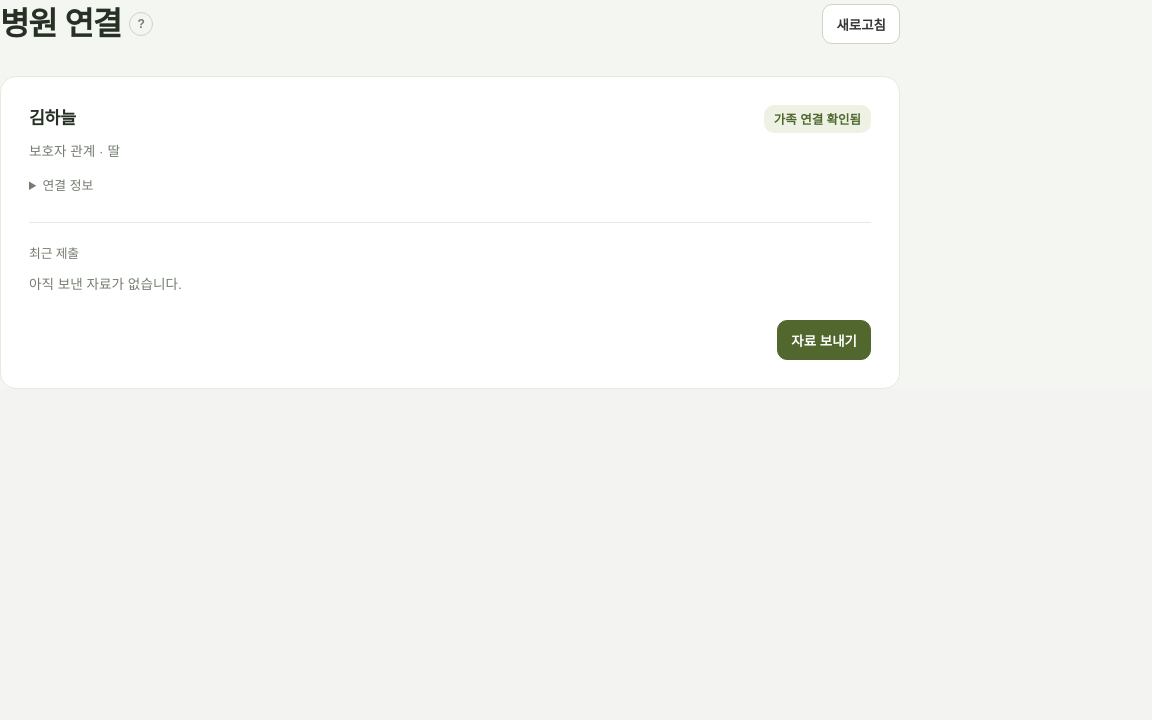
Test: 전송 시트를 닫았다가 다시 열면 동의를 다시 받는다
Click the button "자료 보내기": click(824, 340) [777,320,871,360]
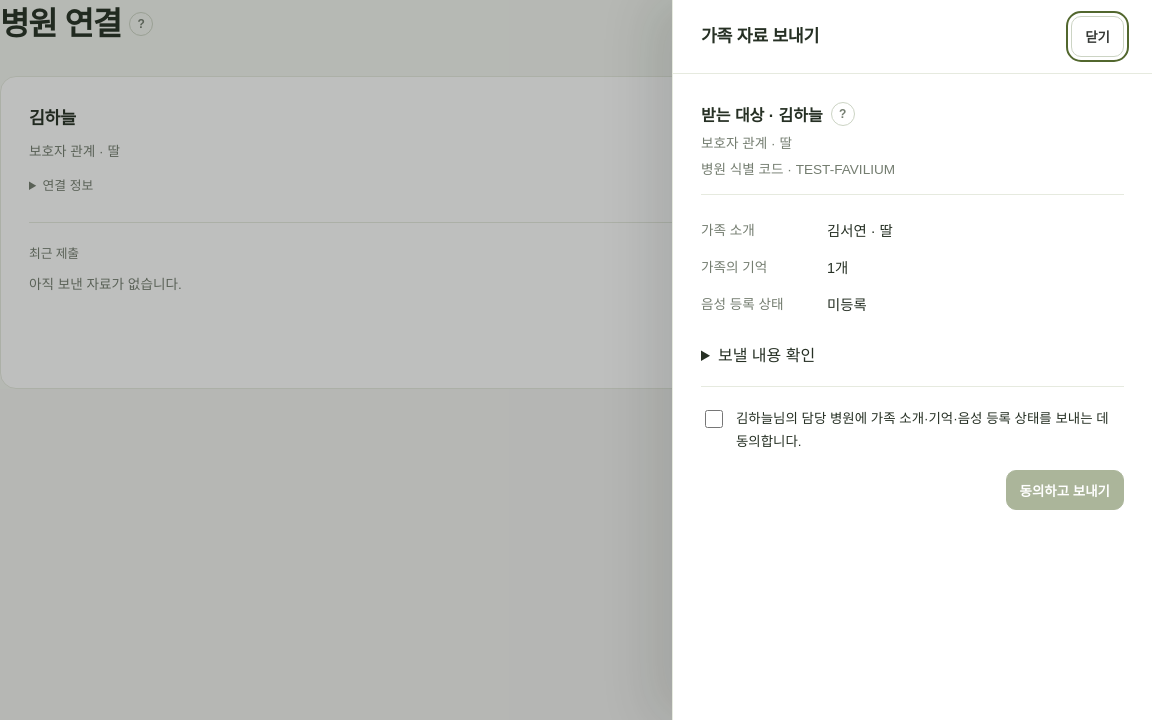
Expected: the checkbox is enabled
Click the checkbox: click(714, 418) [705,410,723,428]
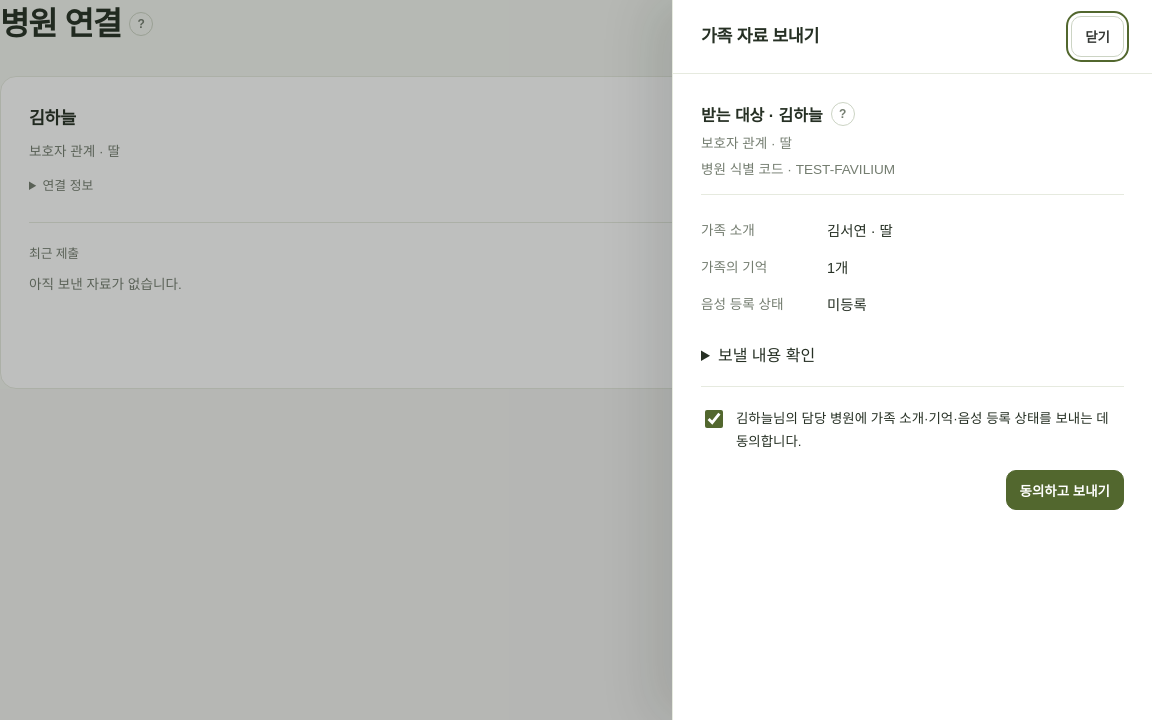
Click the button with aria-label "가족 자료 보내기 닫기": click(1098, 36) [1071,16,1124,56]
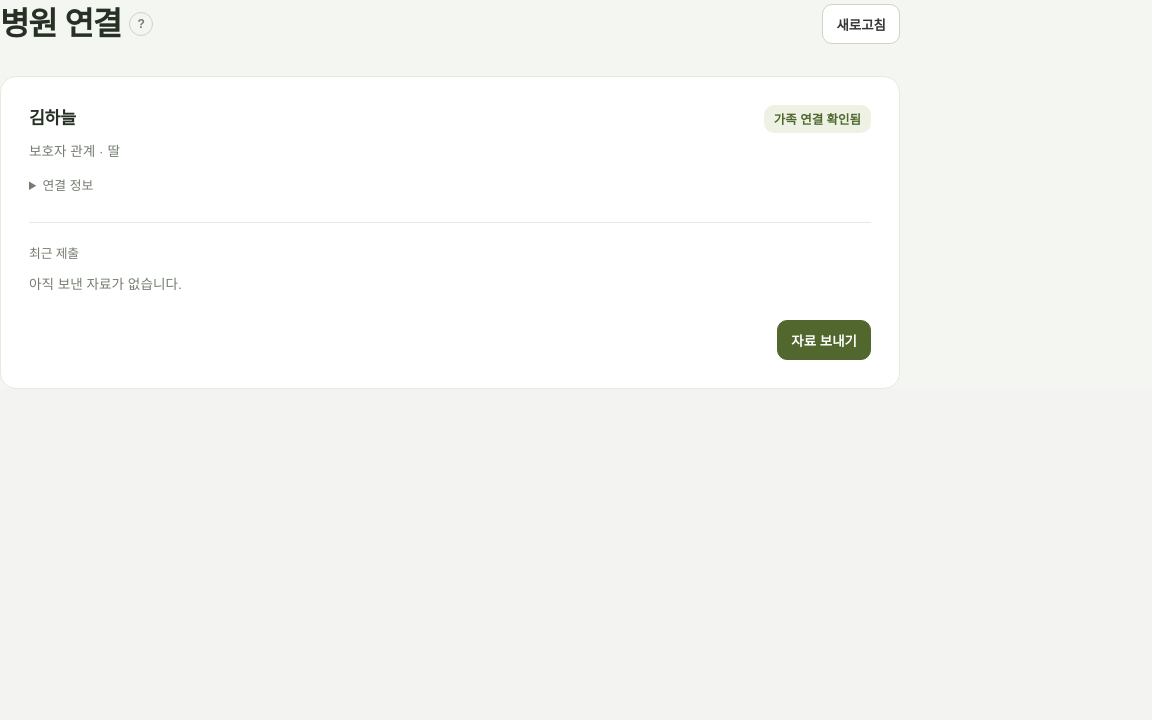
Click the button "자료 보내기": click(824, 340) [777,320,871,360]
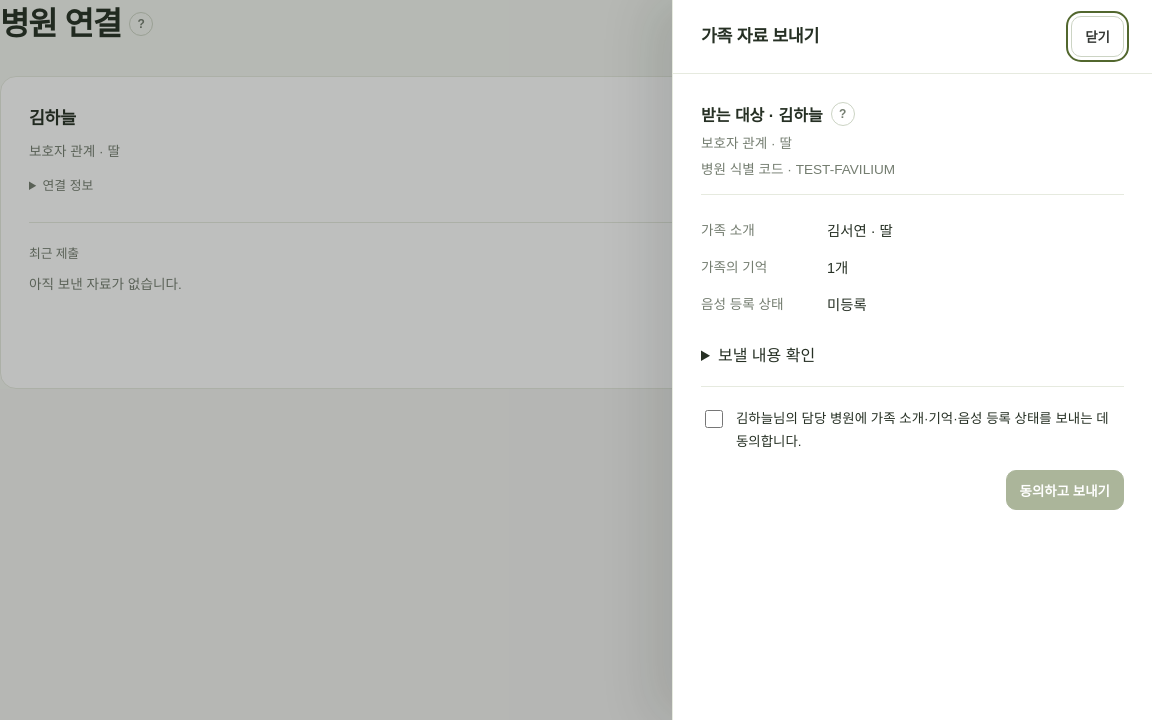
Expected: the checkbox is enabled, [705,410,723,428]
Expected: the checkbox is not checked, [705,410,723,428]
